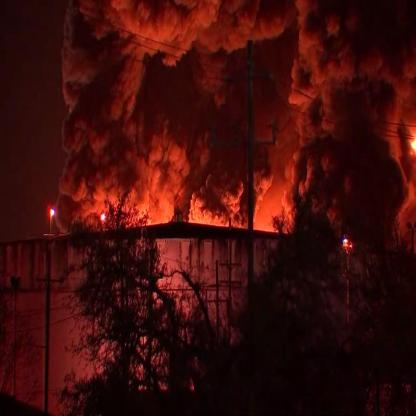fire: (407, 130, 416, 157)
